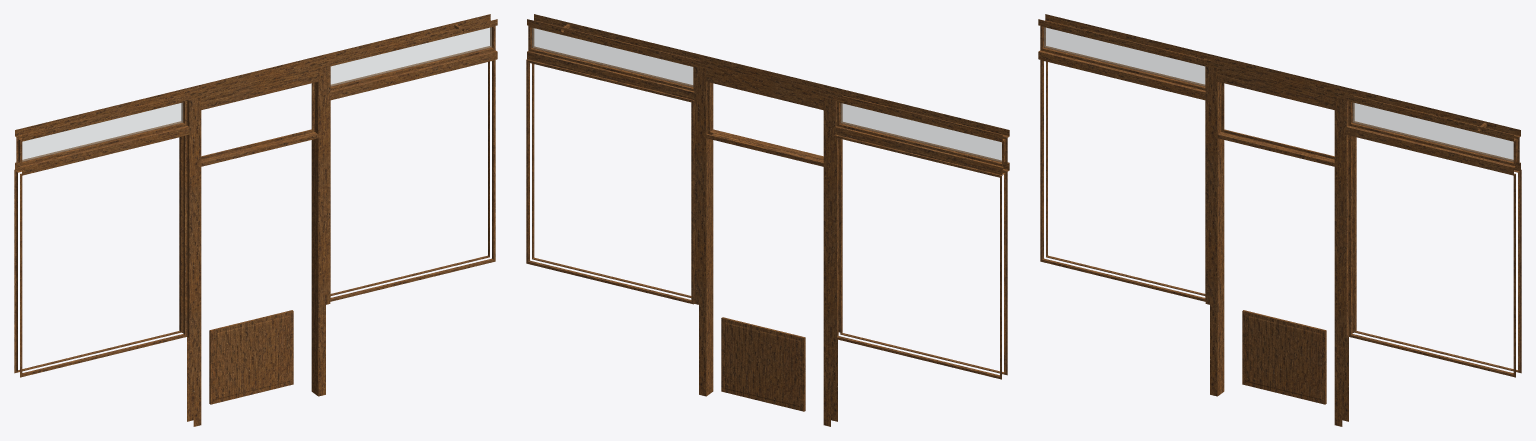
The model's file is bodega_frontage.glb.
3 renders of one model, left to right at view 1: azimuth 30°, elevation 25°; view 2: azimuth 150°, elevation 25°; view 3: azimuth 330°, elevation 25°, orthographic.
Parts seen in each view (by area): view 1: Frontage__oak_quartered, Frontage__glass, LeafPanel__oak_quartered; view 2: Frontage__oak_quartered, Frontage__glass, LeafPanel__oak_quartered; view 3: Frontage__oak_quartered, Frontage__glass, LeafPanel__oak_quartered.
Boxes of the visible parts, box(x1,y1,x2,y2) form: Frontage__oak_quartered: box(14, 14, 497, 426); Frontage__glass: box(22, 27, 491, 161); LeafPanel__oak_quartered: box(209, 310, 293, 404); Frontage__oak_quartered: box(526, 14, 1009, 426); Frontage__glass: box(532, 28, 1001, 161); LeafPanel__oak_quartered: box(721, 317, 805, 411); Frontage__oak_quartered: box(1038, 14, 1521, 426); Frontage__glass: box(1044, 27, 1513, 161); LeafPanel__oak_quartered: box(1242, 310, 1326, 404).
Size of the model in its own units: 3.96 by 2.65 by 0.131.
Materials: 2 (1 with a texture image).
